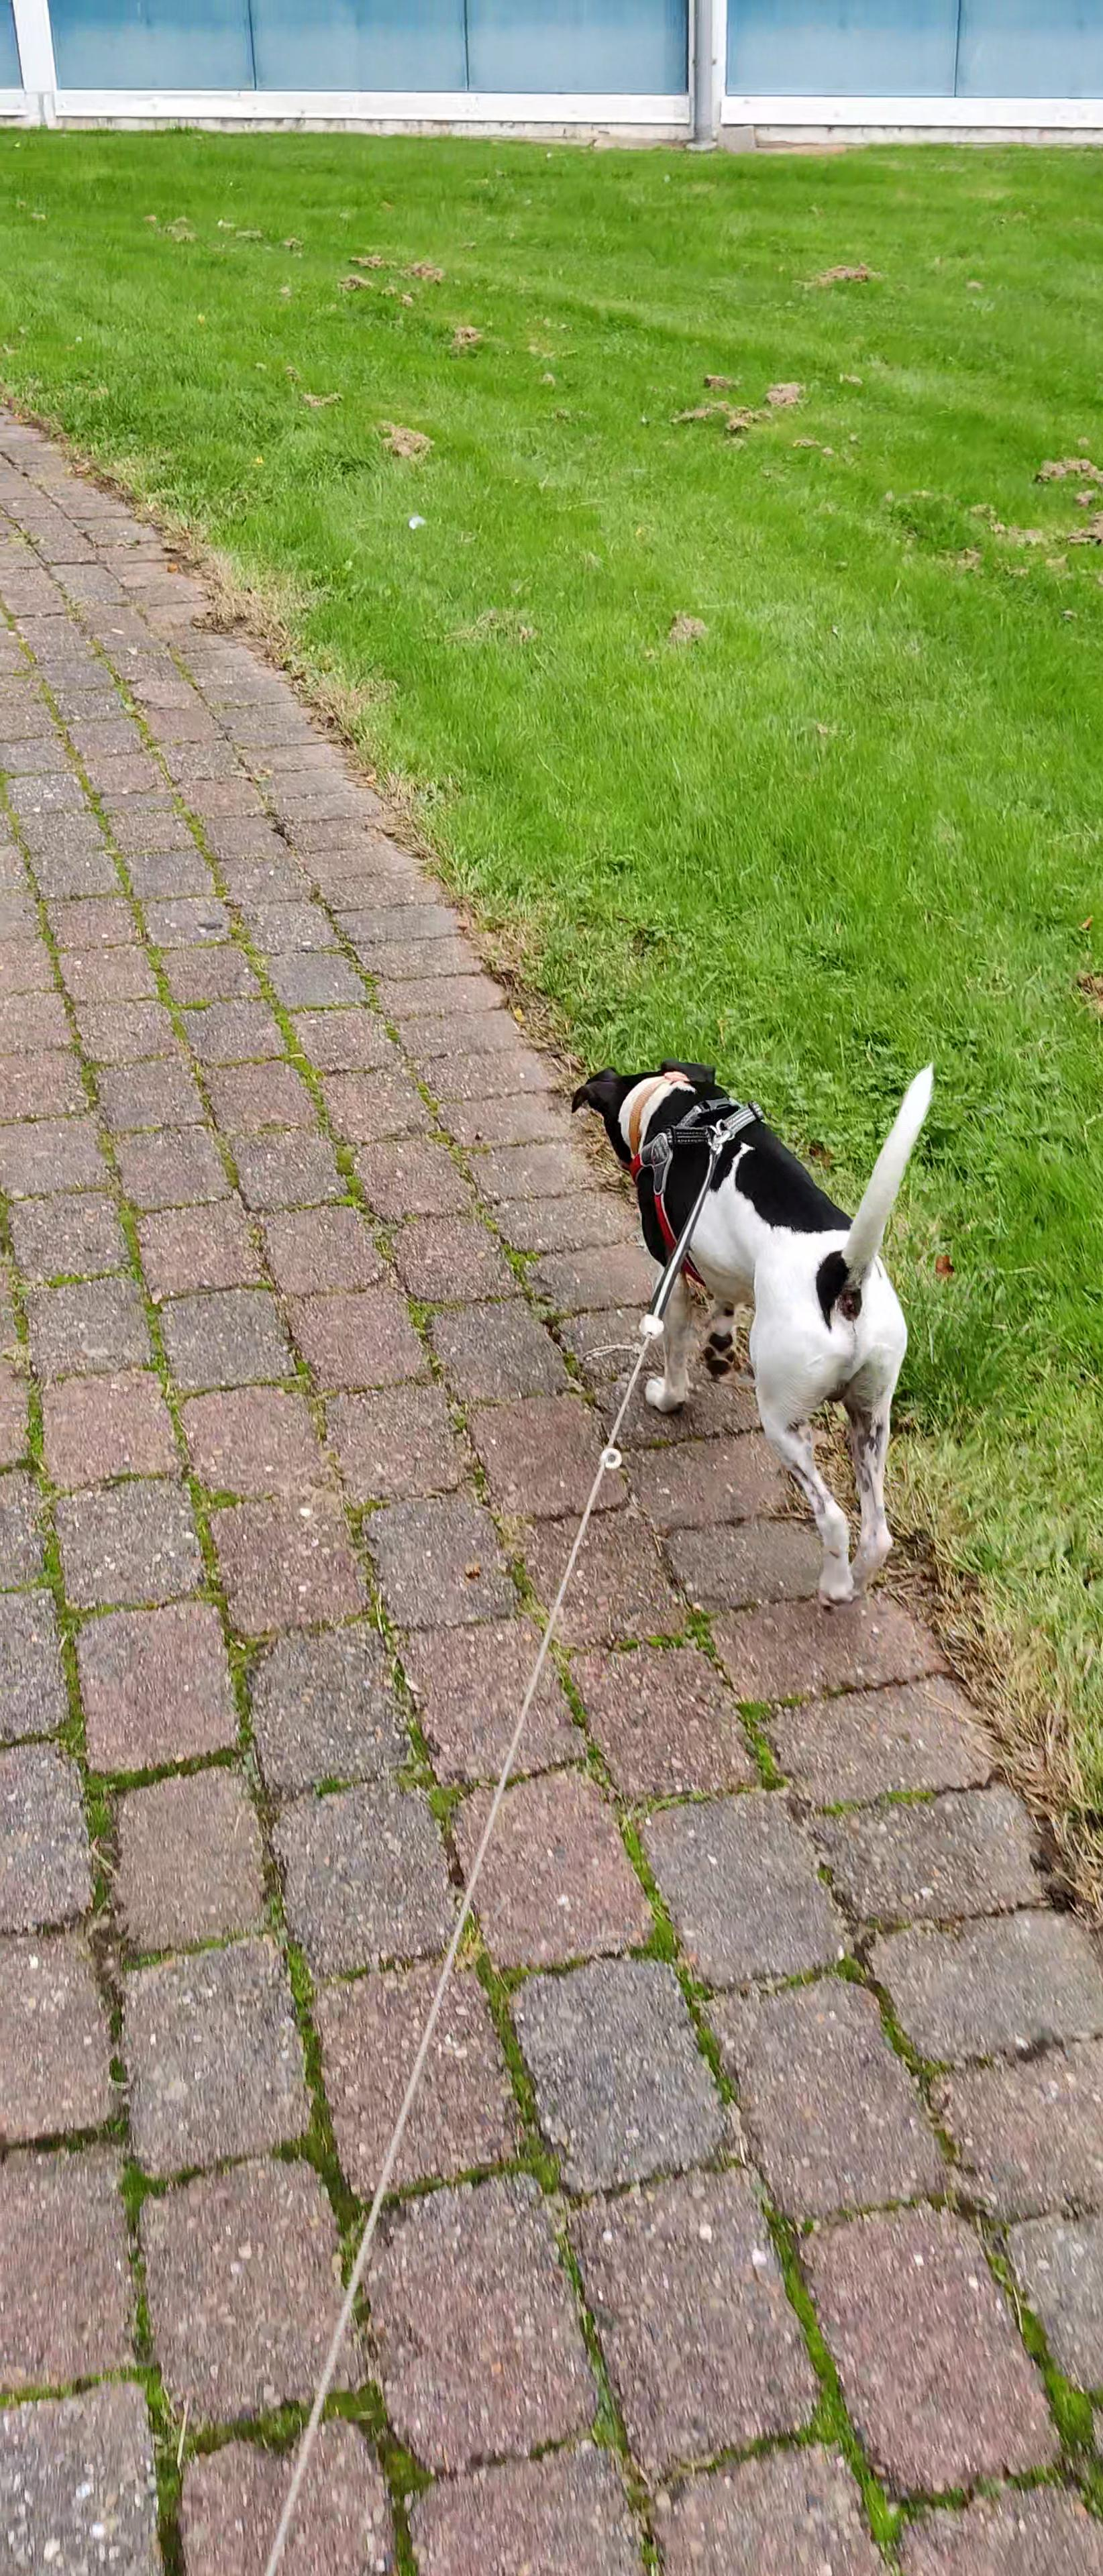Dog: (565, 1033, 944, 1613)
